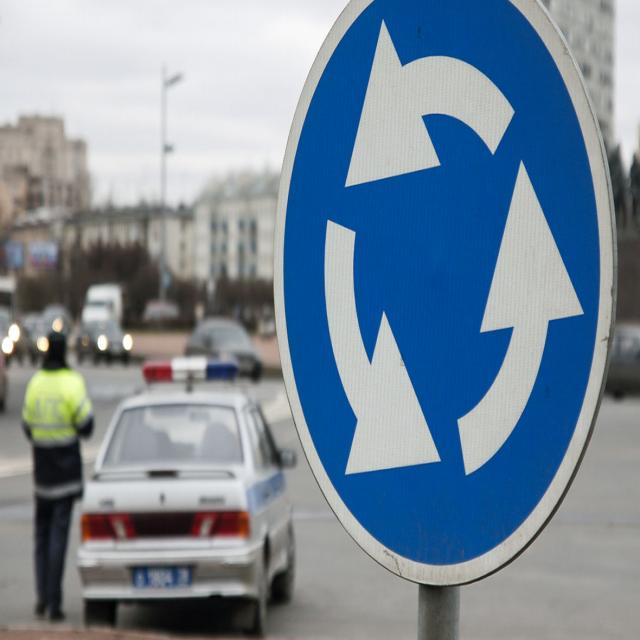roundabout: (273, 0, 617, 587)
